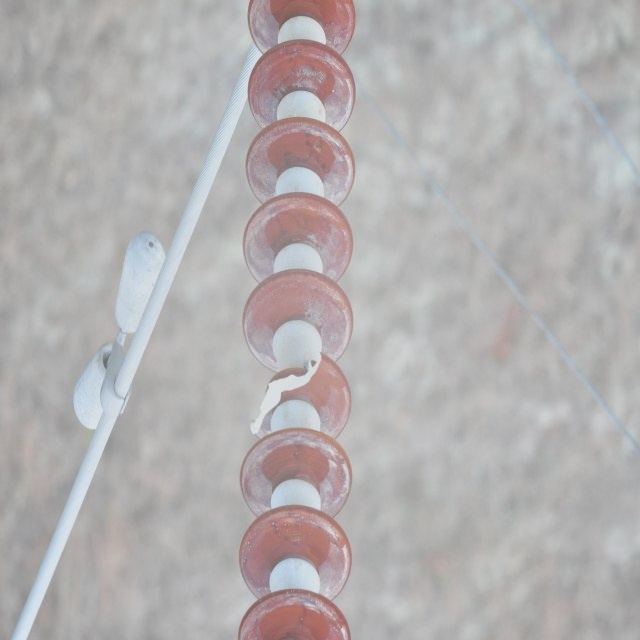broken: (251, 348, 324, 437)
insulator: (238, 0, 360, 638)
